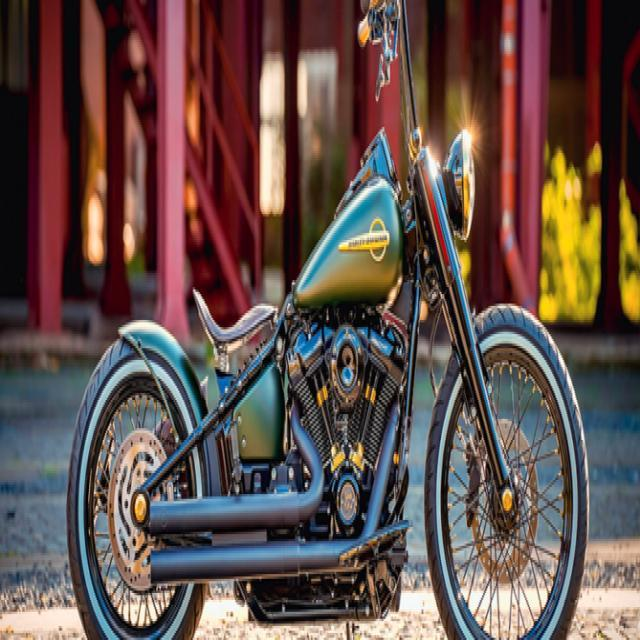motorcycle: (65, 0, 589, 638)
